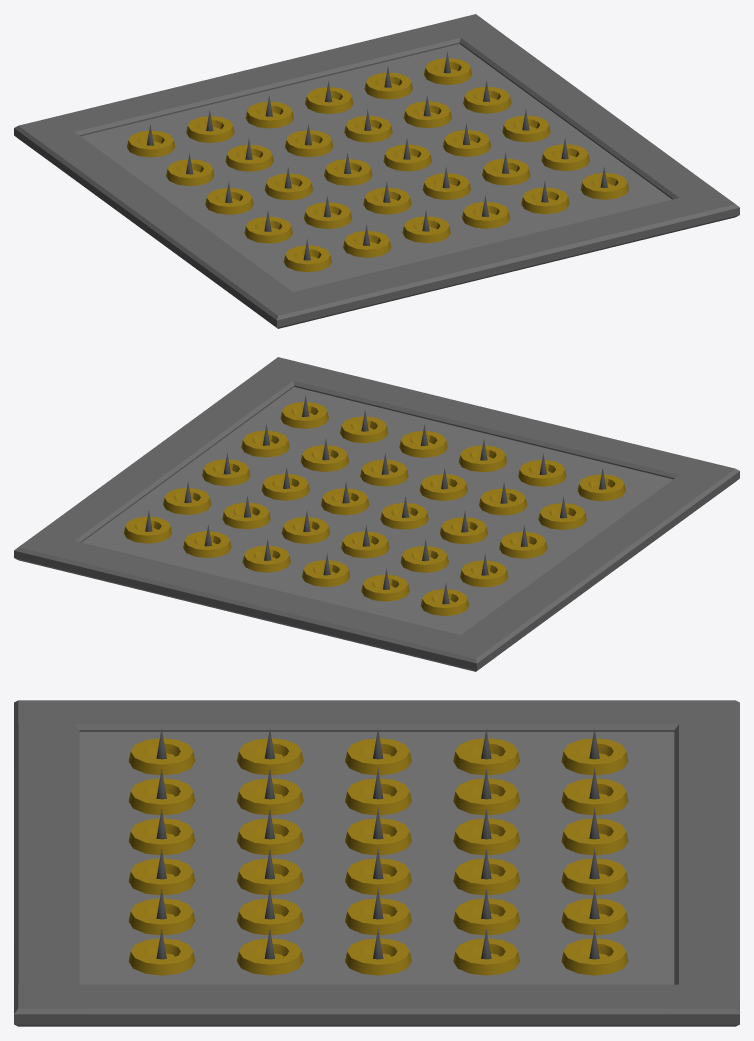
Rendered from SpikeTrap_Lowered.fbx.
3 views of the same model, one above another, from view 1: azimuth 30°, elevation 25°; view 2: azimuth 150°, elevation 25°; view 3: azimuth 270°, elevation 25° (orthographic). The views are drawn at different scales.
Parts seen in each view (by area): view 1: SpikeTrap_Lowered; view 2: SpikeTrap_Lowered; view 3: SpikeTrap_Lowered.
Part boxes in pixels (box(x1,y1,x2,y2)): SpikeTrap_Lowered: box(14, 14, 739, 328); SpikeTrap_Lowered: box(14, 357, 739, 671); SpikeTrap_Lowered: box(14, 700, 739, 1026).
Size of the model in its own units: 465 by 31.39 by 457.
